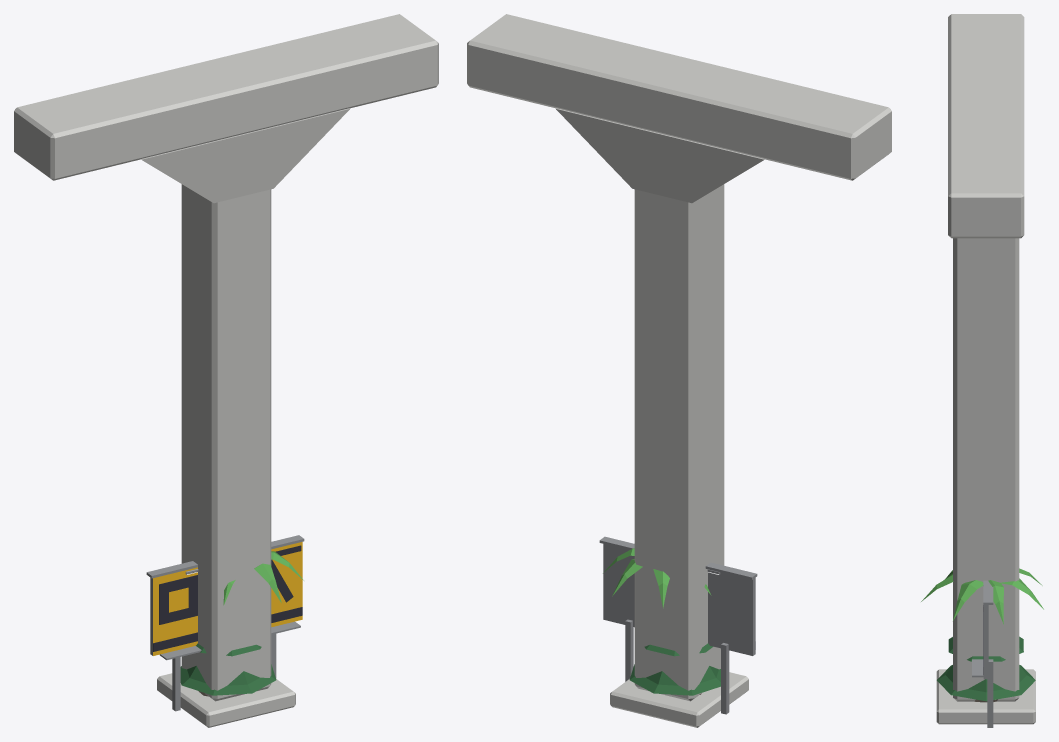
The model's file is props.glb.
3 views of the same model, side by side, from view 1: azimuth 30°, elevation 25°; view 2: azimuth 150°, elevation 25°; view 3: azimuth 270°, elevation 25° (orthographic). The views are drawn at different scales.
Parts seen in each view (by area): view 1: Pylon, Billboard, Pine, Palm; view 2: Pylon, Billboard, Pine, Palm; view 3: Pylon, Pine, Billboard, Palm.
Boxes of the visible parts, x1,y1,x2,y2 form: Pylon: (14,14,438,727); Billboard: (146,535,304,711); Pine: (180,643,276,695); Palm: (223,551,303,605); Pylon: (467,14,891,727); Billboard: (599,536,757,714); Pine: (629,643,720,695); Palm: (603,548,711,608); Pylon: (936,14,1035,724); Pine: (936,636,1035,701); Billboard: (972,580,993,727); Palm: (921,568,1043,624).
Size of the model in its own units: 26 by 40.3 by 7.53.
